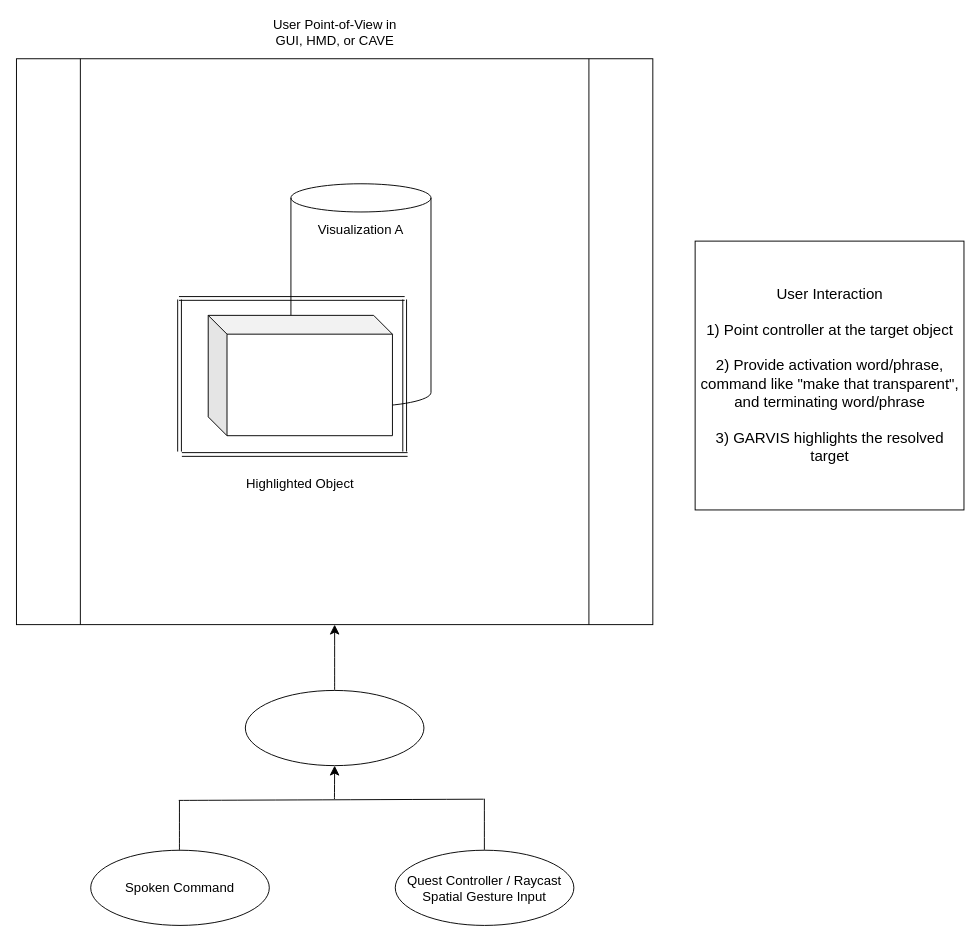
This 980x942 diagram has some shape labels left out. Here are the shapes that lost their labels. From the top down, the box of each, then its label:
(207, 314, 392, 436): Visualization B
(244, 689, 424, 766): Extended GARVIS System
